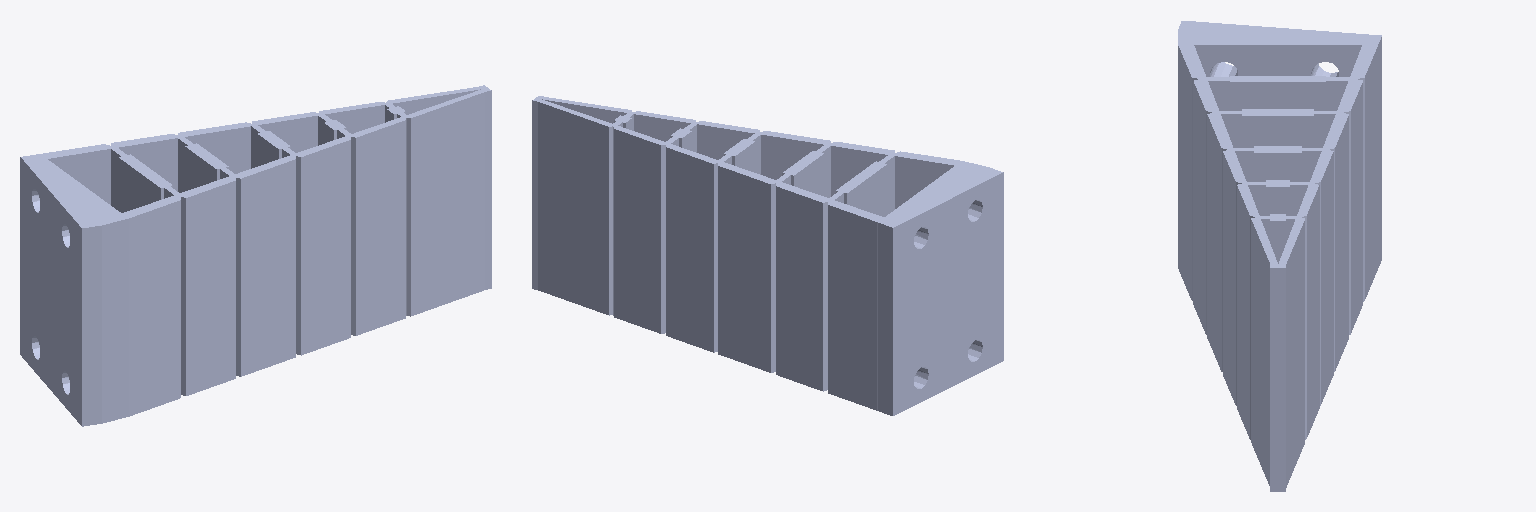
URDF robot description (gripper-finger-urdf):
<?xml version="1.0" encoding="utf-8"?>
<!-- This URDF was automatically created by SolidWorks to URDF Exporter! Originally created by [author] ([email redacted]) 
     Commit Version: 1.6.0-4-g7f85cfe  Build Version: 1.6.7995.38578
     For more information, please see http://wiki.ros.org/sw_urdf_exporter -->
<robot
  name="gripper-finger-urdf">
  <link
    name="gripper_finger_link">
    <inertial>
      <origin
        xyz="3.8885E-10 0.003093 0.023137"
        rpy="0 0 0" />
      <mass
        value="0.012616" />
      <inertia
        ixx="5.6752E-06"
        ixy="-8.5136E-14"
        ixz="9.1121E-14"
        iyy="5.9242E-06"
        iyz="-9.2723E-07"
        izz="1.7502E-06" />
    </inertial>
    <visual>
      <origin
        xyz="0 0 0"
        rpy="0 0 0" />
      <geometry>
        <mesh
          filename="package://gripper-finger-urdf/meshes/gripper_finger_link.STL" />
      </geometry>
      <material
        name="">
        <color
          rgba="0.79216 0.81961 0.93333 1" />
      </material>
    </visual>
    <collision>
      <origin
        xyz="0 0 0"
        rpy="0 0 0" />
      <geometry>
        <mesh
          filename="package://gripper-finger-urdf/meshes/gripper_finger_link.STL" />
      </geometry>
    </collision>
  </link>
</robot>

--- Facts derived from the render (not from the file) ---
3 views of the same robot in one strip: view 1: azimuth 30°, elevation 25°; view 2: azimuth 150°, elevation 25°; view 3: azimuth 270°, elevation 25° (orthographic).
Model gripper-finger-urdf with 1 links and 0 joints (none), rooted at gripper_finger_link, posed every joint at zero.
Visible links, largest first — view 1: gripper_finger_link; view 2: gripper_finger_link; view 3: gripper_finger_link.
Link boxes in pixels (box(x1,y1,x2,y2)): gripper_finger_link: box(20, 85, 491, 426); gripper_finger_link: box(532, 96, 1003, 415); gripper_finger_link: box(1178, 21, 1381, 491).
Size in the robot's own frame: 0.0734 by 0.0257 by 0.031 metres.
1 mesh visuals loaded from 1 distinct referenced files (1 binary STL).